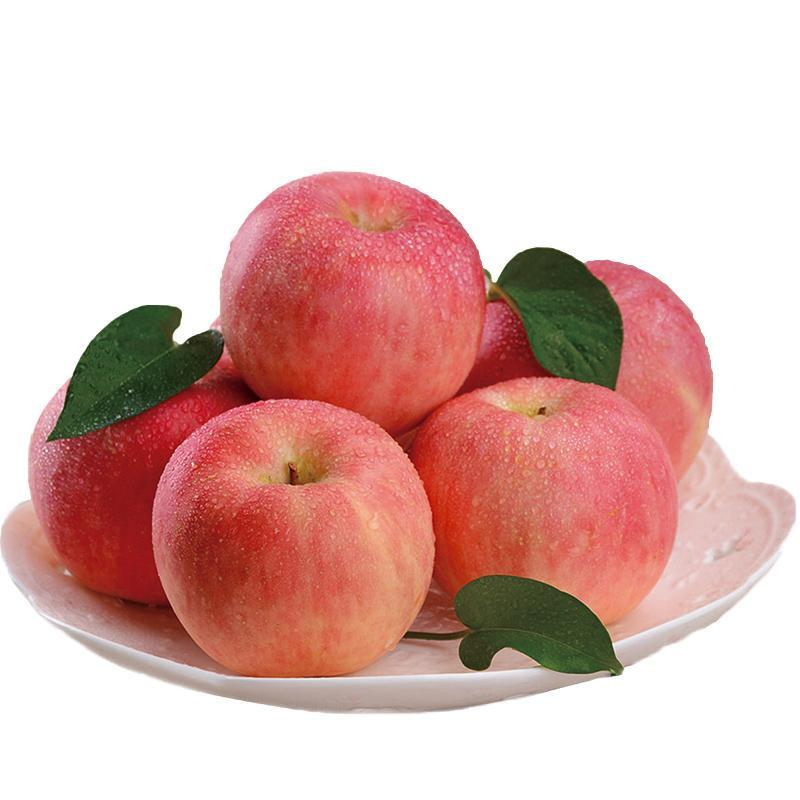apple: (150, 400, 433, 676), (216, 171, 486, 437), (409, 376, 680, 639), (30, 303, 237, 607)
